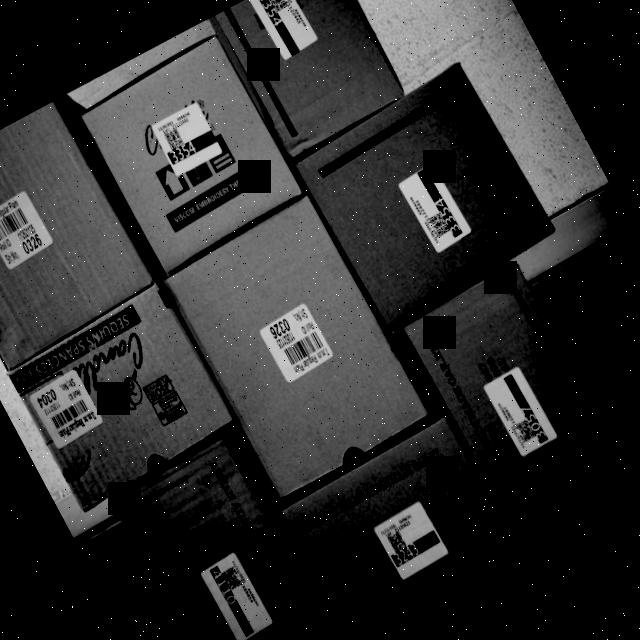box: (151, 186, 433, 504), (391, 246, 640, 571), (288, 55, 568, 332), (273, 408, 531, 640), (70, 31, 304, 271), (3, 288, 240, 510), (107, 433, 351, 640), (0, 96, 160, 370), (207, 0, 410, 168)
